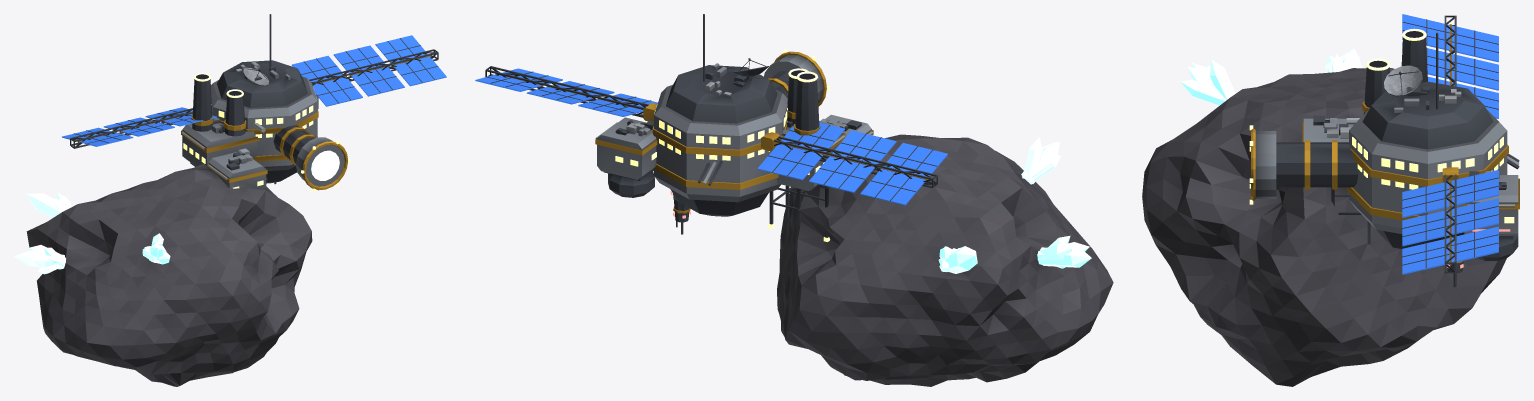
Rendered from station_l2.glb.
The picture shows the model from 3 angles, left to right: view 1: azimuth 30°, elevation 25°; view 2: azimuth 150°, elevation 25°; view 3: azimuth 270°, elevation 25°; orthographic projection. The views are drawn at different scales.
Visible parts, largest first — view 1: station_l2; view 2: station_l2; view 3: station_l2.
Boxes of the visible parts, bbox=[...] form: station_l2: bbox=[14, 14, 446, 386]; station_l2: bbox=[475, 14, 1113, 386]; station_l2: bbox=[1142, 14, 1519, 386].
Bounding box in the file's own units: 32.43 × 20.28 × 16.7.
